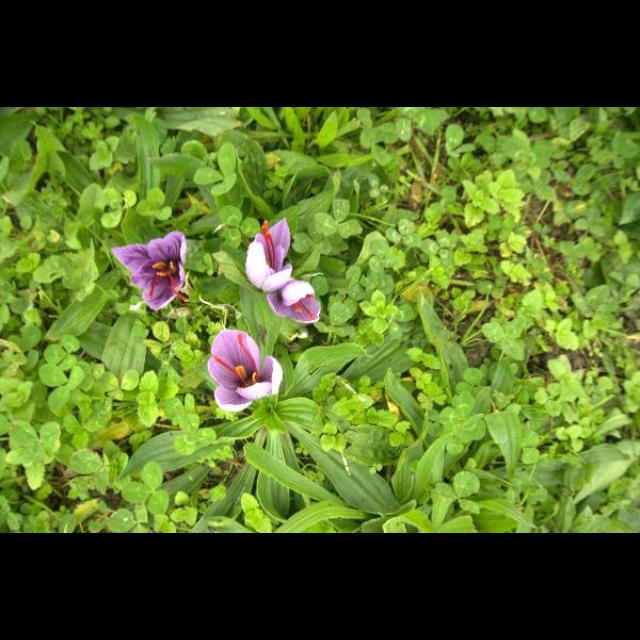flower: (208, 330, 284, 412), (112, 232, 188, 312), (245, 218, 292, 292), (266, 282, 322, 322)
